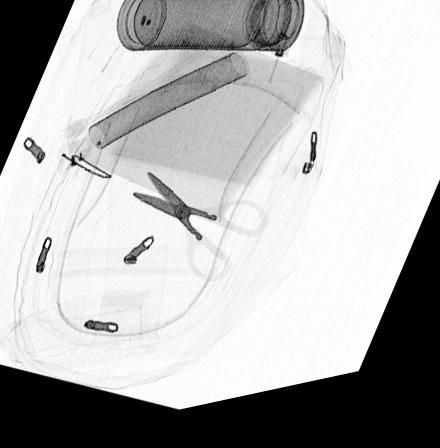Scissors: (131, 174, 270, 294)
